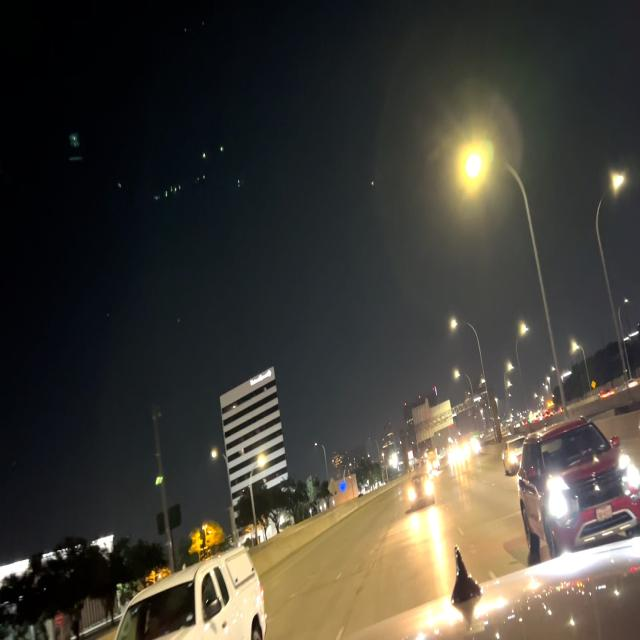back-of-sign: (411, 397, 455, 448)
